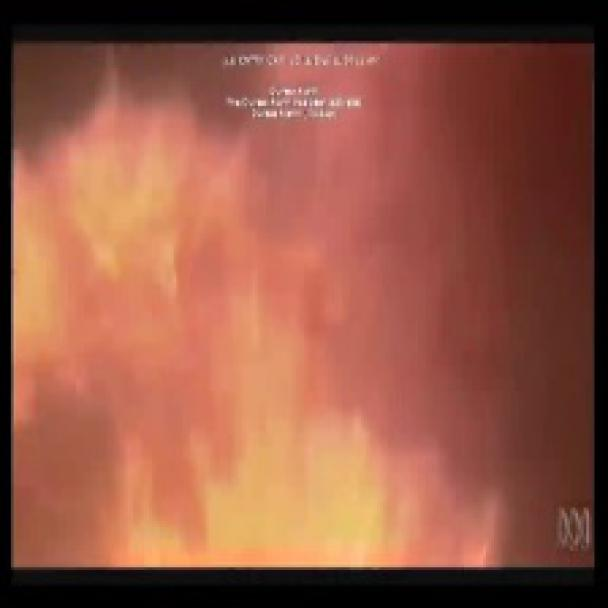Fire: (21, 42, 591, 563)
